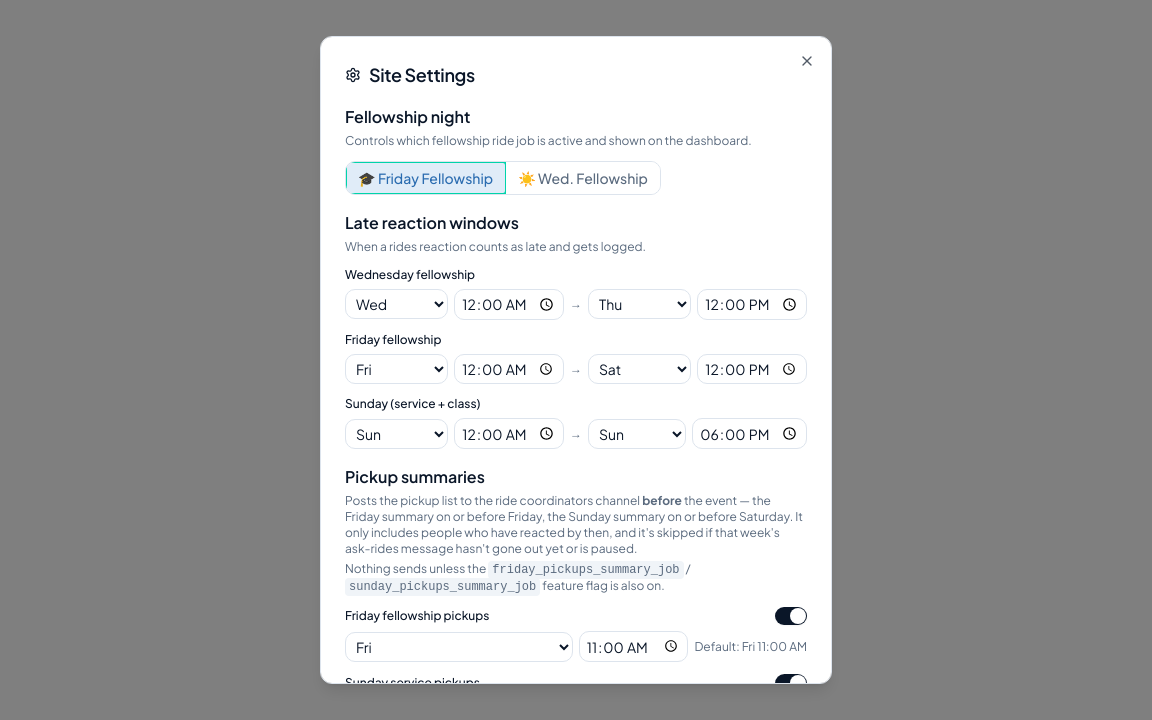
Test: SiteSettingsDialog - Pickup summaries › changing the day sends a PUT with the full entry
Expected: the text "Friday fellowship pickups" is shown, [345, 608, 490, 624]
Step 1. Select "Wed" in the dropdown named "Day" → (459, 647), box [345, 632, 573, 662]
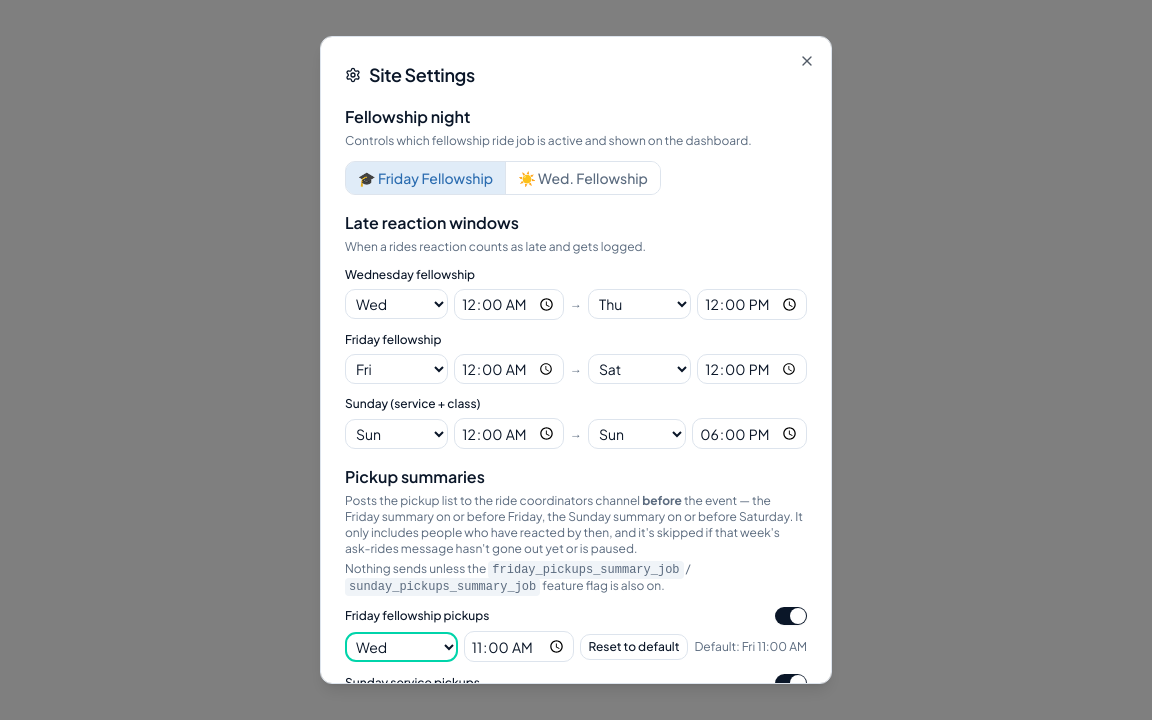
Expected: the button "Reset to default" is shown, [580, 634, 688, 660]
